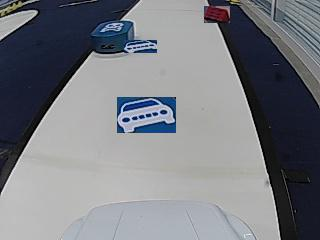danger: (101, 21, 123, 32)
